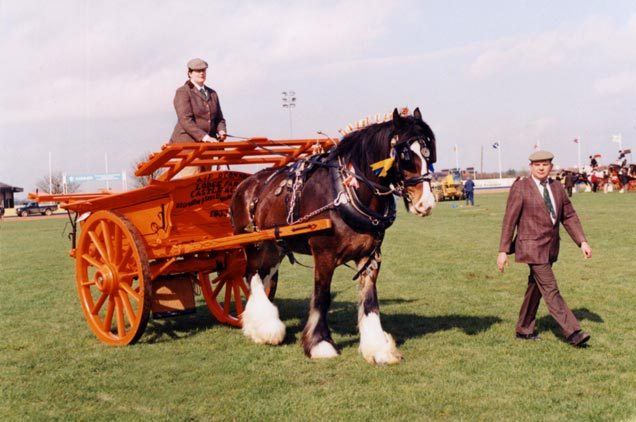horse: (223, 106, 439, 365)
